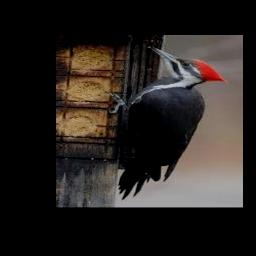Woodpecker: (107, 46, 228, 199)
